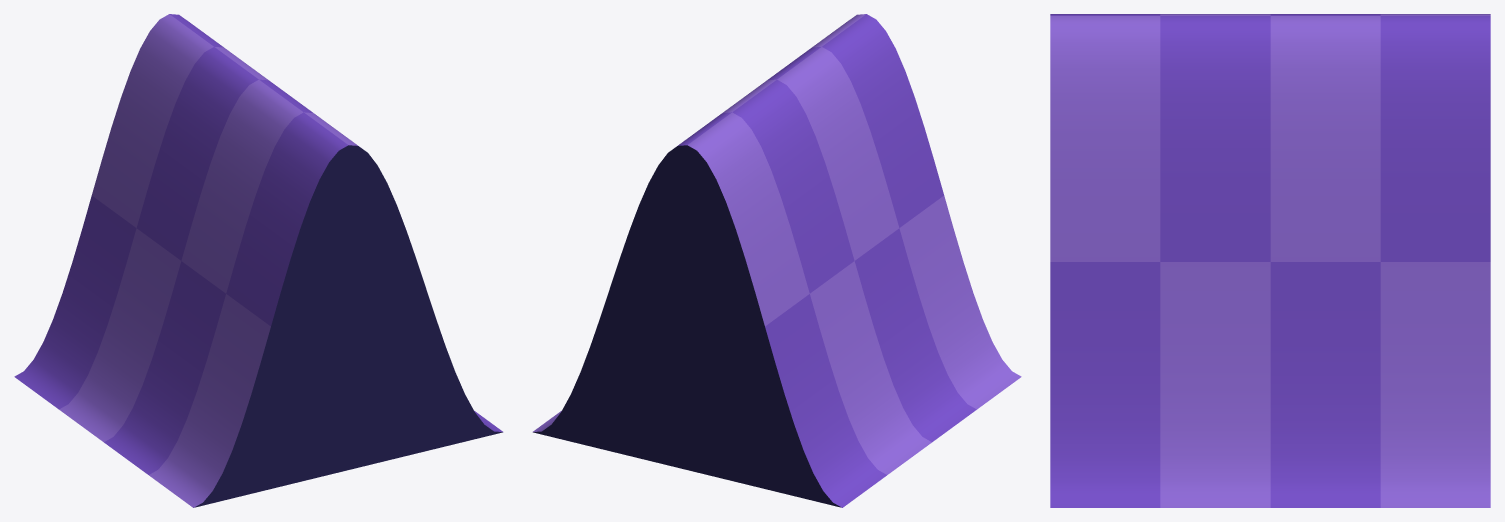
Rendered from arch_purple.glb.
3 views of the same model, side by side, from view 1: azimuth 30°, elevation 25°; view 2: azimuth 150°, elevation 25°; view 3: azimuth 270°, elevation 25° (orthographic). The views are drawn at different scales.
Visible parts, largest first — view 1: Body; view 2: Body; view 3: Body.
Boxes of the visible parts, x1=… form: Body: x1=14, y1=14, x2=503, y2=507; Body: x1=532, y1=14, x2=1021, y2=507; Body: x1=1050, y1=14, x2=1490, y2=507.
Size of the model in its own units: 1 by 1 by 1.
